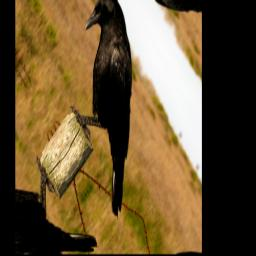Crow: (42, 0, 184, 222)
